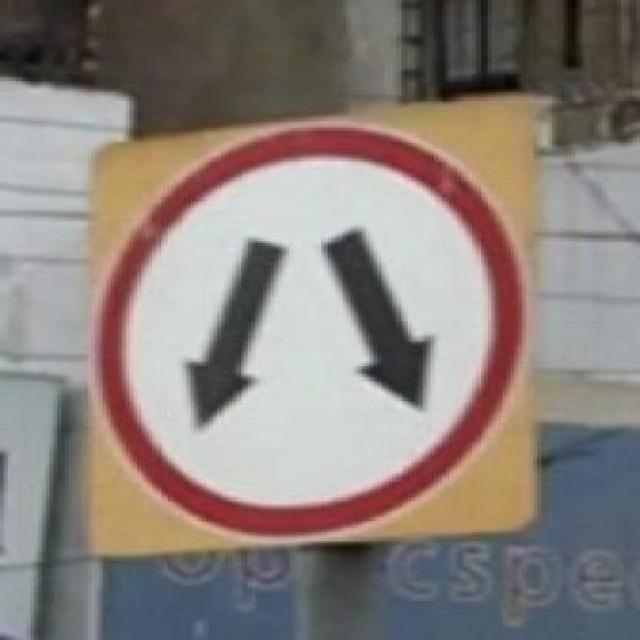pass either side: (95, 117, 523, 539)
